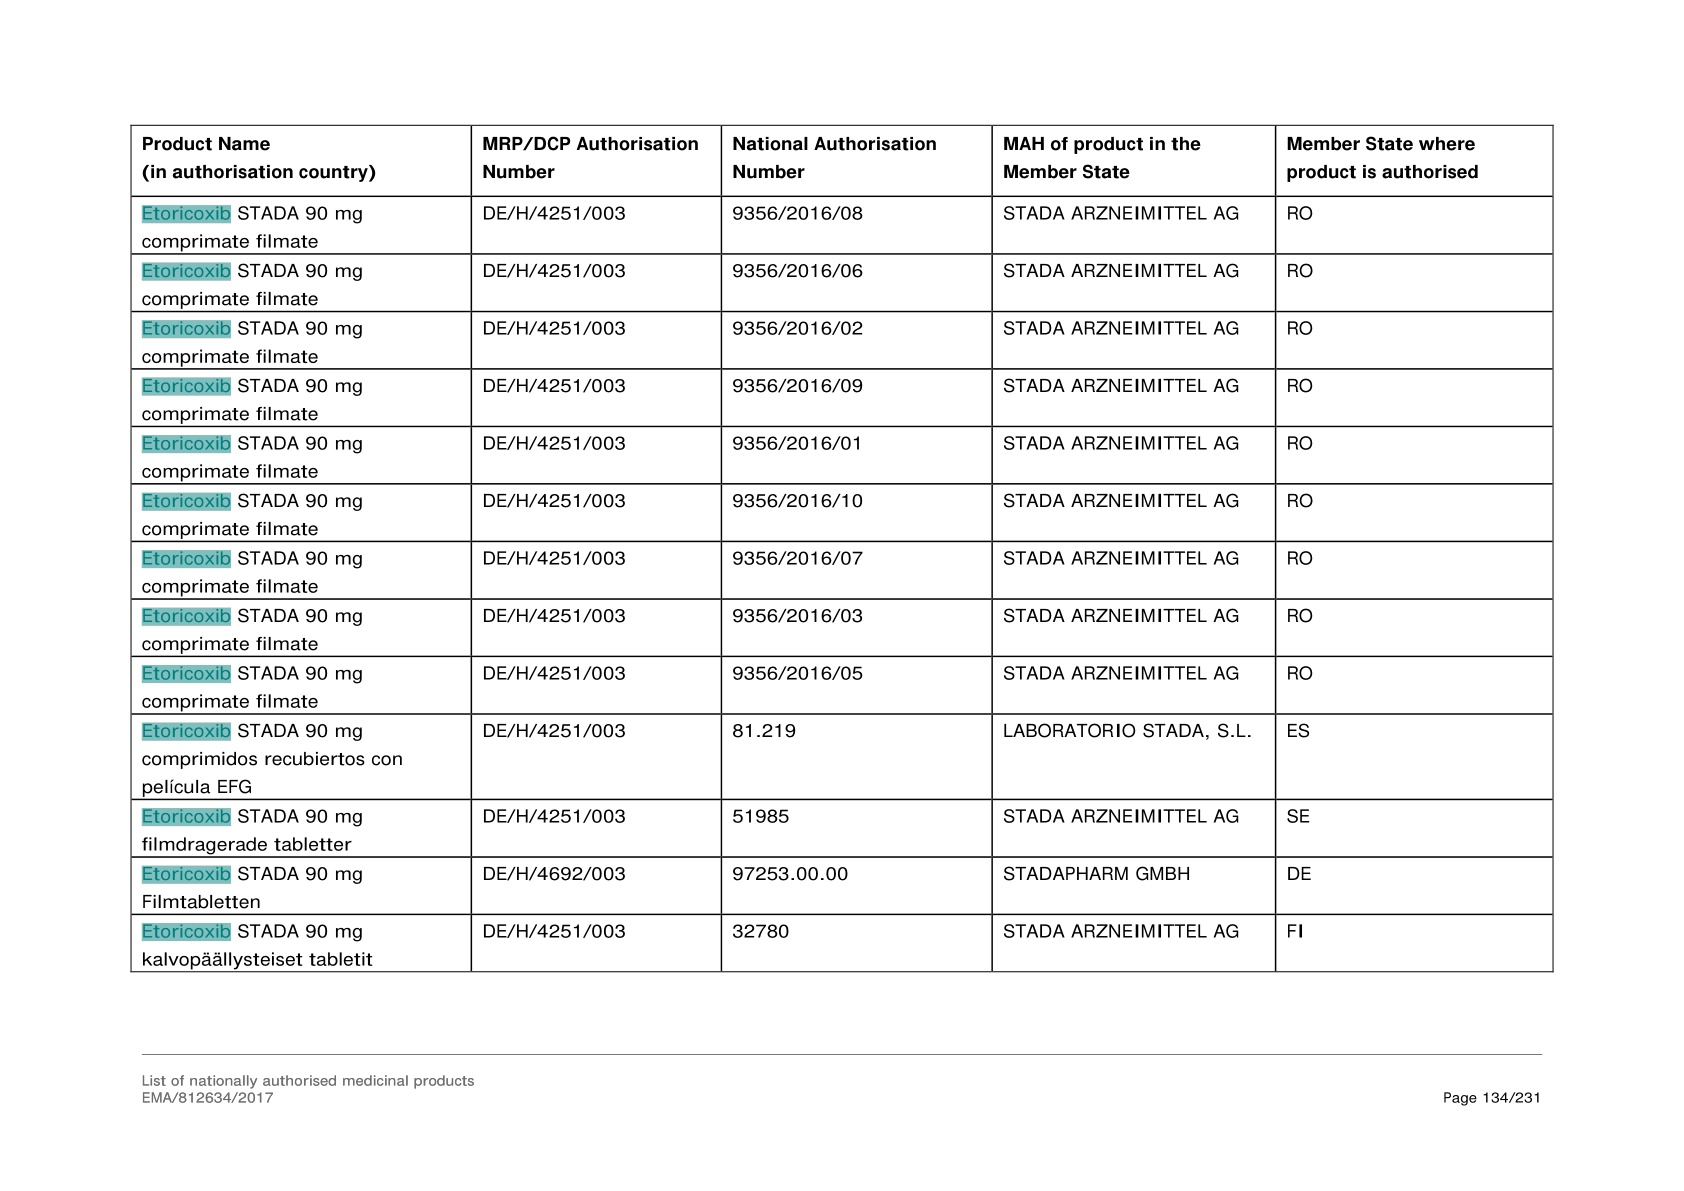full_lined: (129, 122, 1554, 973)
